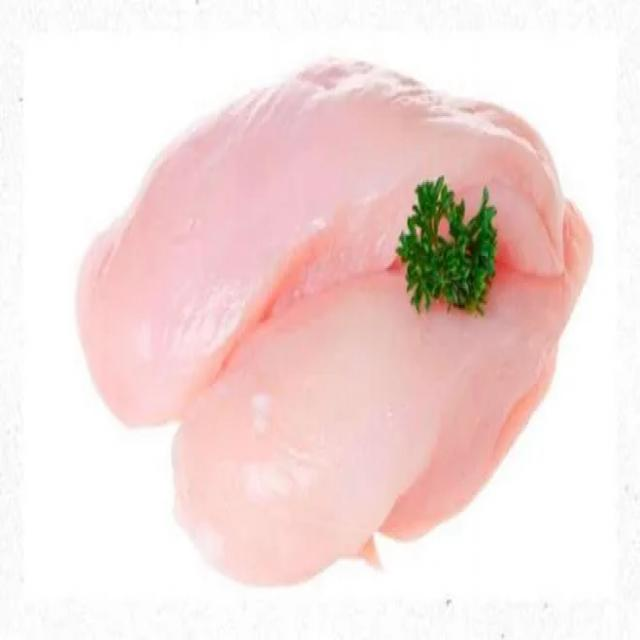chicken breast: (79, 66, 595, 583)
